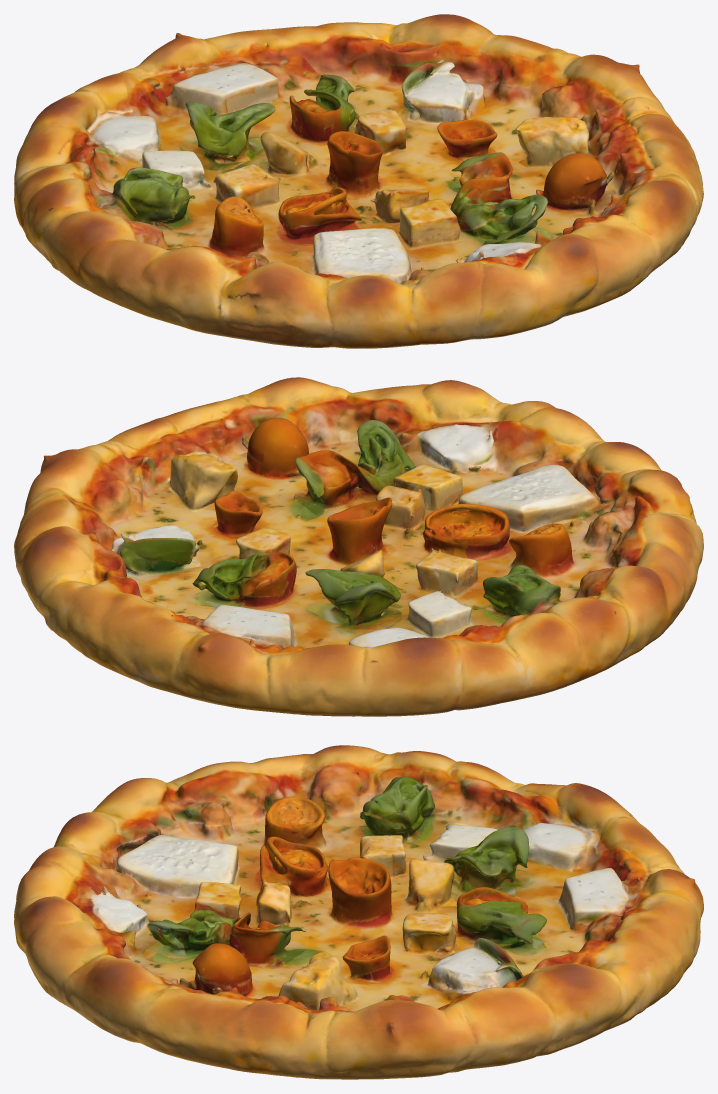
The model's file is Peppy_Poneer_Pizza.glb.
The picture shows the model from 3 angles, top to bottom: view 1: azimuth 30°, elevation 25°; view 2: azimuth 150°, elevation 25°; view 3: azimuth 270°, elevation 25°; orthographic projection.
Size of the model in its own units: 2 by 0.2448 by 2.
Materials: 1 (1 with a texture image).
